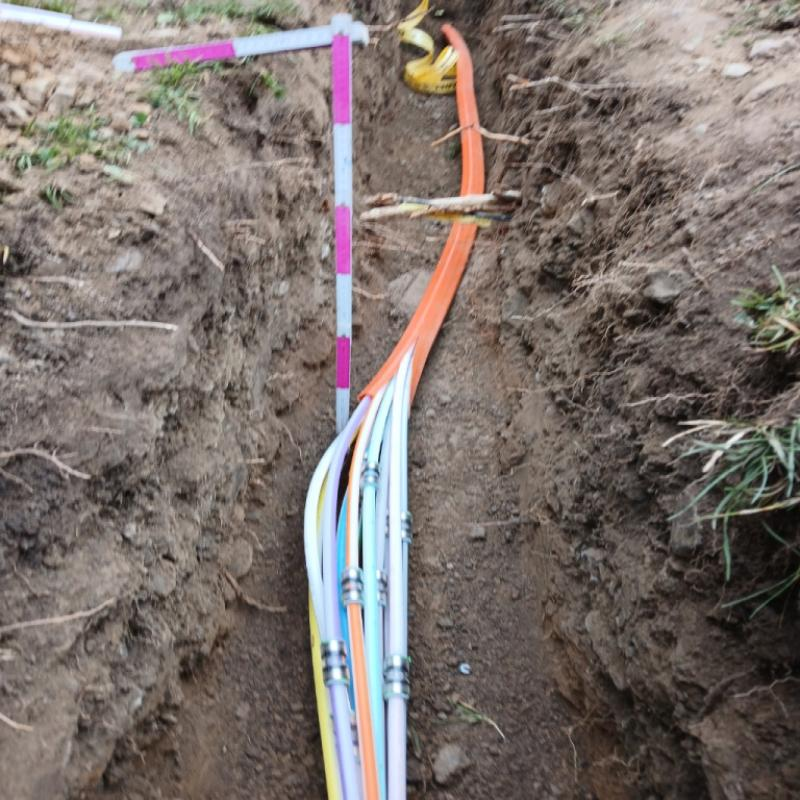Orang-Speednetrohrchen: (298, 32, 488, 783)
